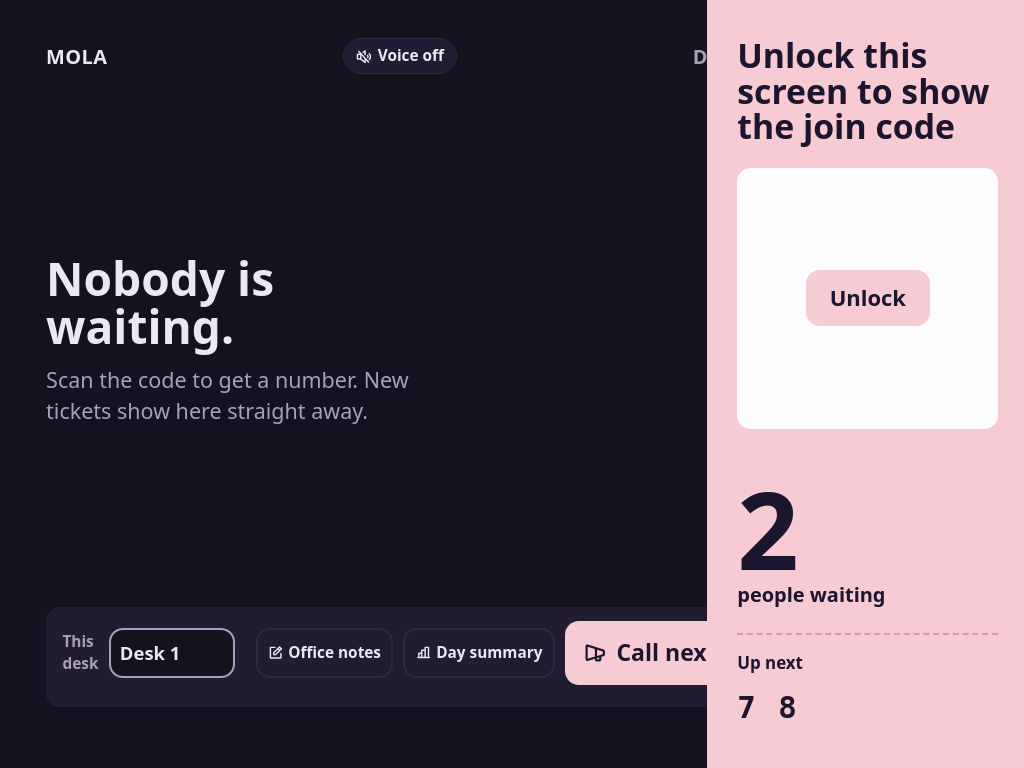
staff controls › frees Call next when API Gateway answers with its own error
Click the button "Call next" at (650, 653), box [565, 621, 735, 685]
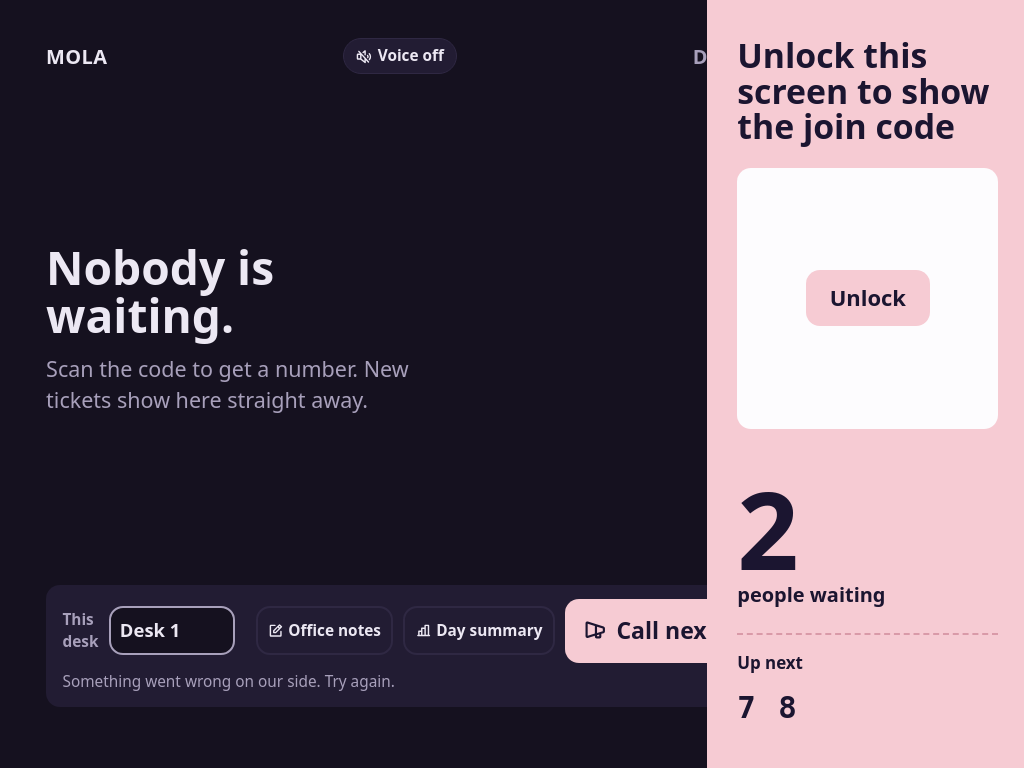
expect the button "Call next" is enabled: met, box [565, 599, 735, 663]
expect the text "Something went wrong on our side. Try again." is shown: met, box [62, 670, 395, 692]
